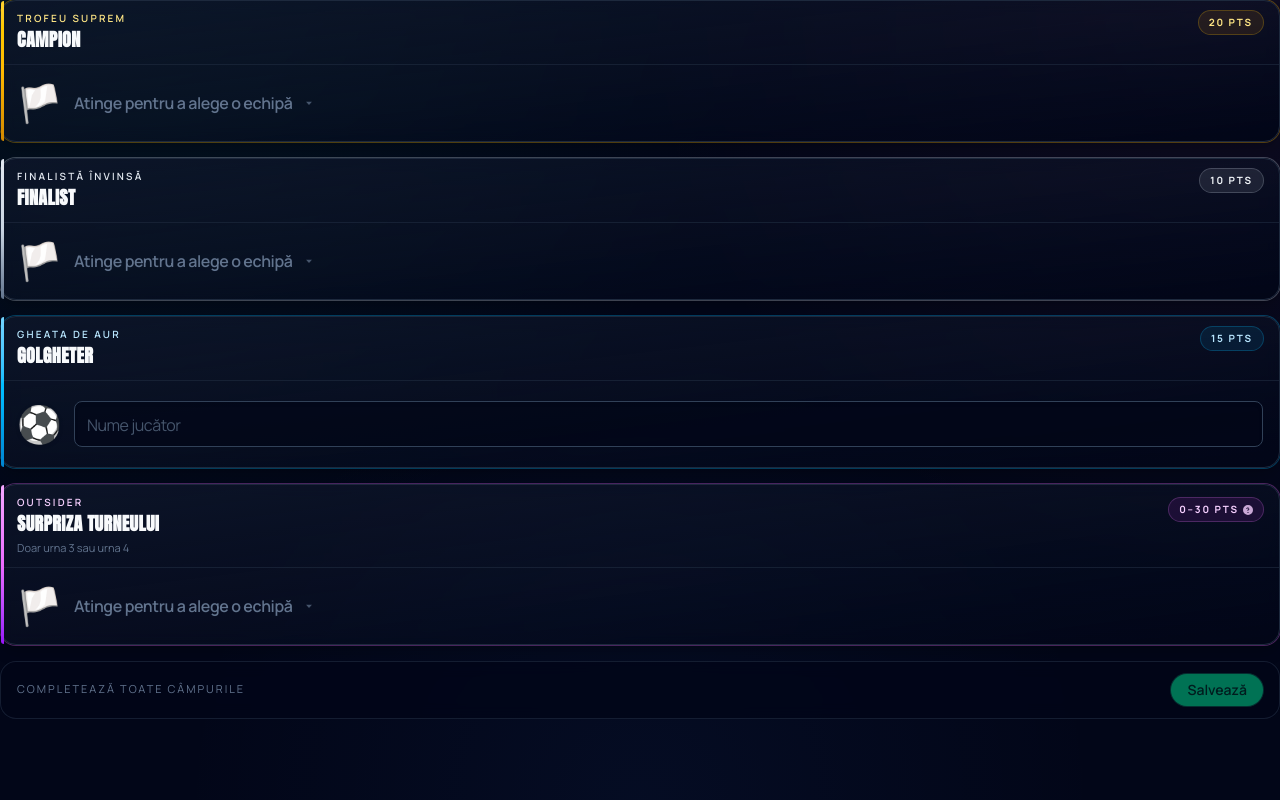
BonusForm › filters dark horse options to pots 3 and 4 only
Step 1. Click the button with aria-label "surpriza" → click(39, 605), box [1,568,1279,644]
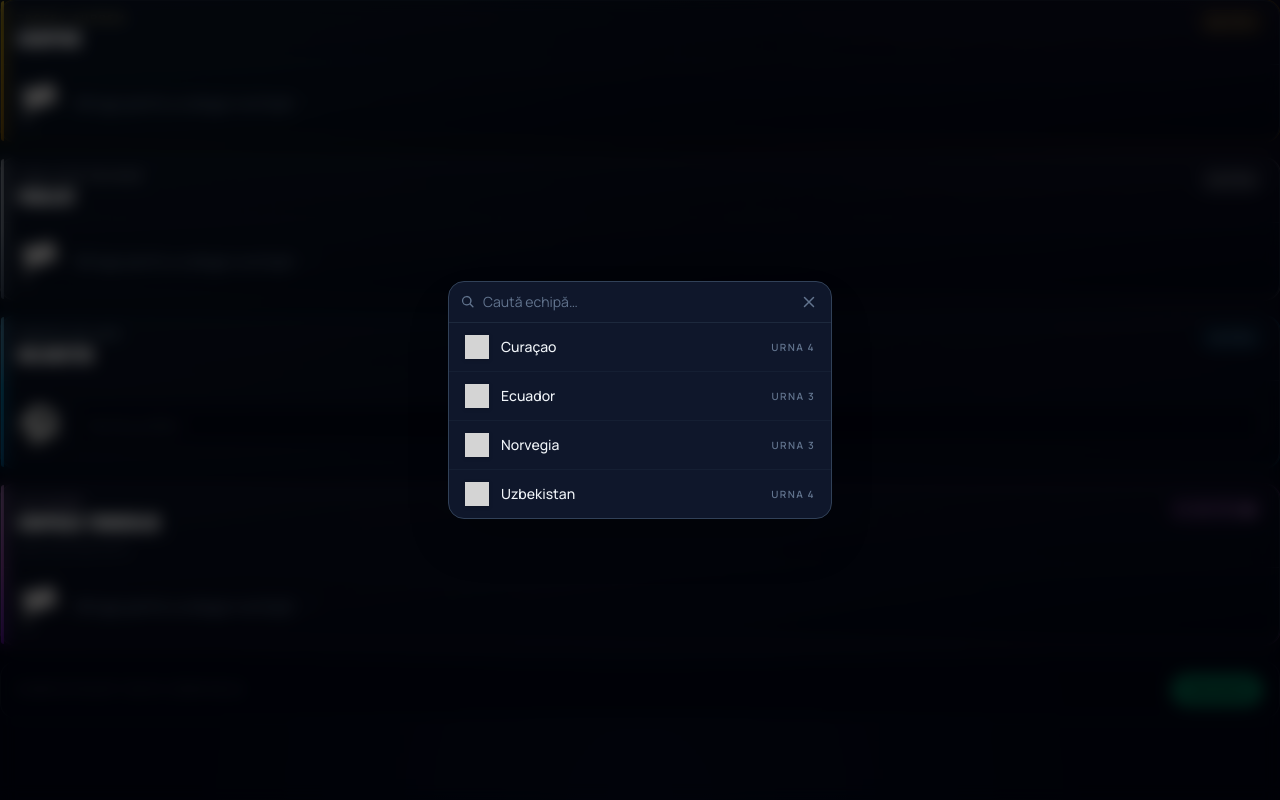
expect the number of options is 4: met, box [449,323,831,372]; [449,372,831,421]; [449,421,831,470]; [465,482,815,506]
